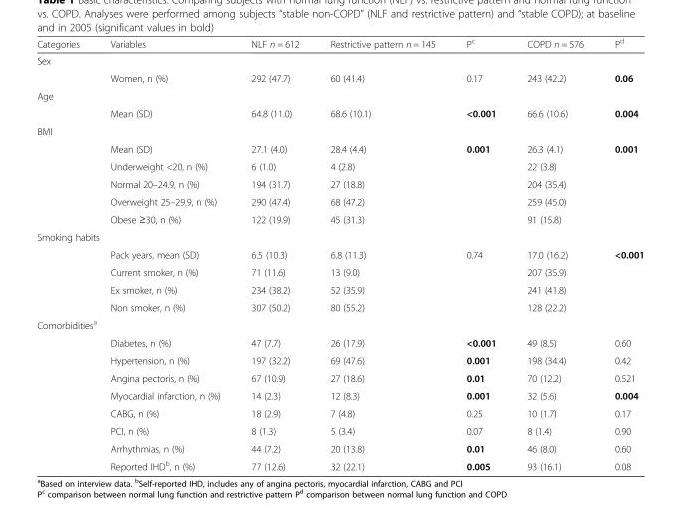table: (36, 36, 643, 471)
table column: (94, 36, 235, 471), (314, 36, 450, 471), (510, 36, 598, 471), (235, 36, 314, 471), (450, 36, 510, 471), (36, 36, 94, 471), (598, 36, 643, 471)
table column header: (36, 36, 643, 52)
table projected row header: (36, 86, 643, 104), (36, 227, 643, 245), (36, 315, 643, 333), (36, 52, 643, 69), (36, 122, 643, 139)
table row: (36, 86, 643, 104), (36, 104, 643, 122), (36, 139, 643, 157), (36, 157, 643, 175), (36, 192, 643, 210), (36, 227, 643, 245), (36, 245, 643, 263), (36, 280, 643, 298), (36, 315, 643, 333), (36, 333, 643, 351), (36, 368, 643, 386), (36, 386, 643, 404), (36, 421, 643, 439), (36, 52, 643, 69), (36, 69, 643, 86), (36, 122, 643, 139), (36, 175, 643, 192), (36, 210, 643, 227), (36, 263, 643, 280), (36, 298, 643, 315), (36, 351, 643, 368), (36, 404, 643, 421), (36, 439, 643, 456), (36, 36, 643, 52), (36, 456, 643, 471)
